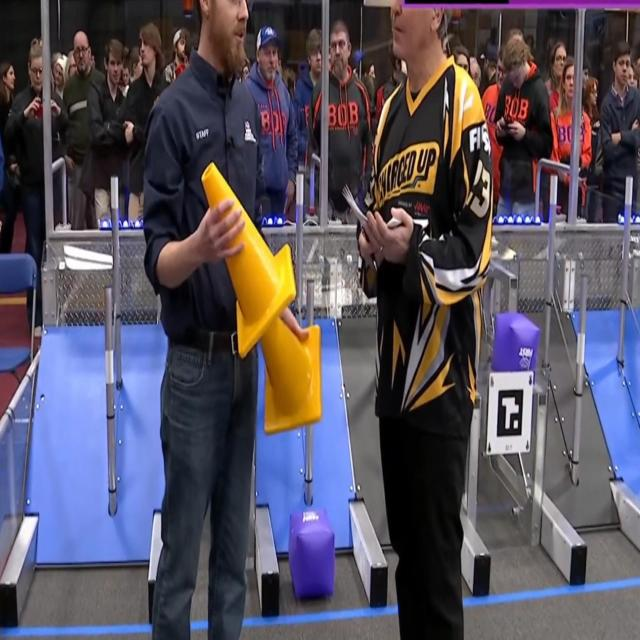frc_cone: (202, 160, 298, 358), (257, 312, 321, 432)
frc_cube: (288, 509, 336, 600), (492, 311, 538, 379)
